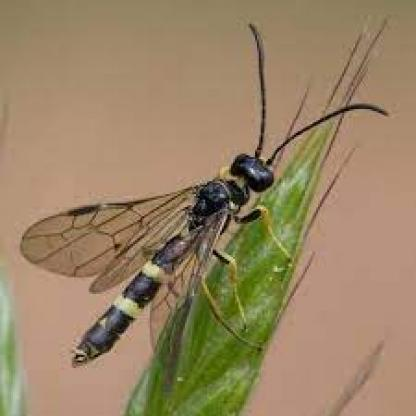sawfly: (15, 13, 399, 376)
